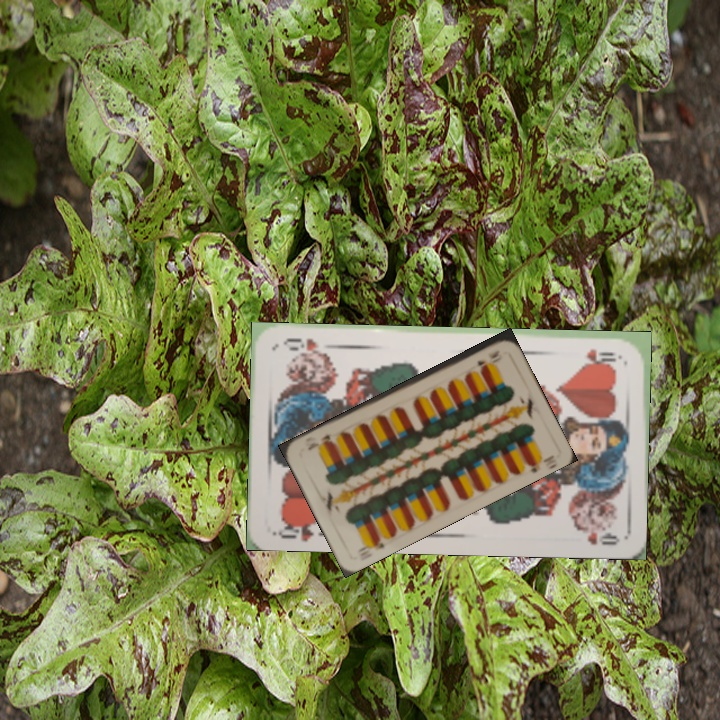E10: (355, 533, 387, 555), (473, 346, 503, 369)
HO: (271, 515, 321, 543), (583, 345, 625, 365)
